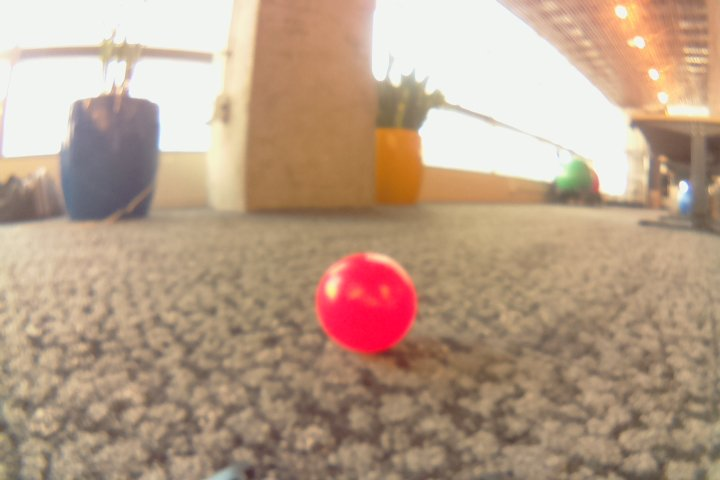ball: (677, 183, 692, 216)
